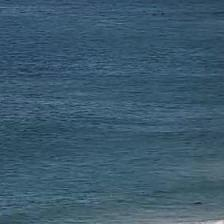surfer: (160, 12, 165, 16)
